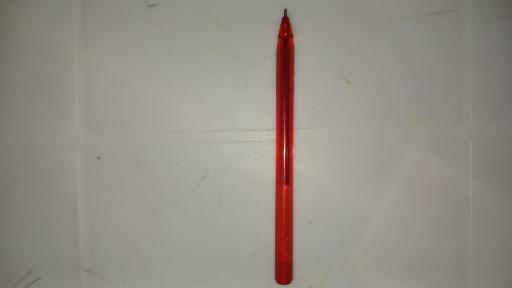pen: (274, 6, 295, 288)
